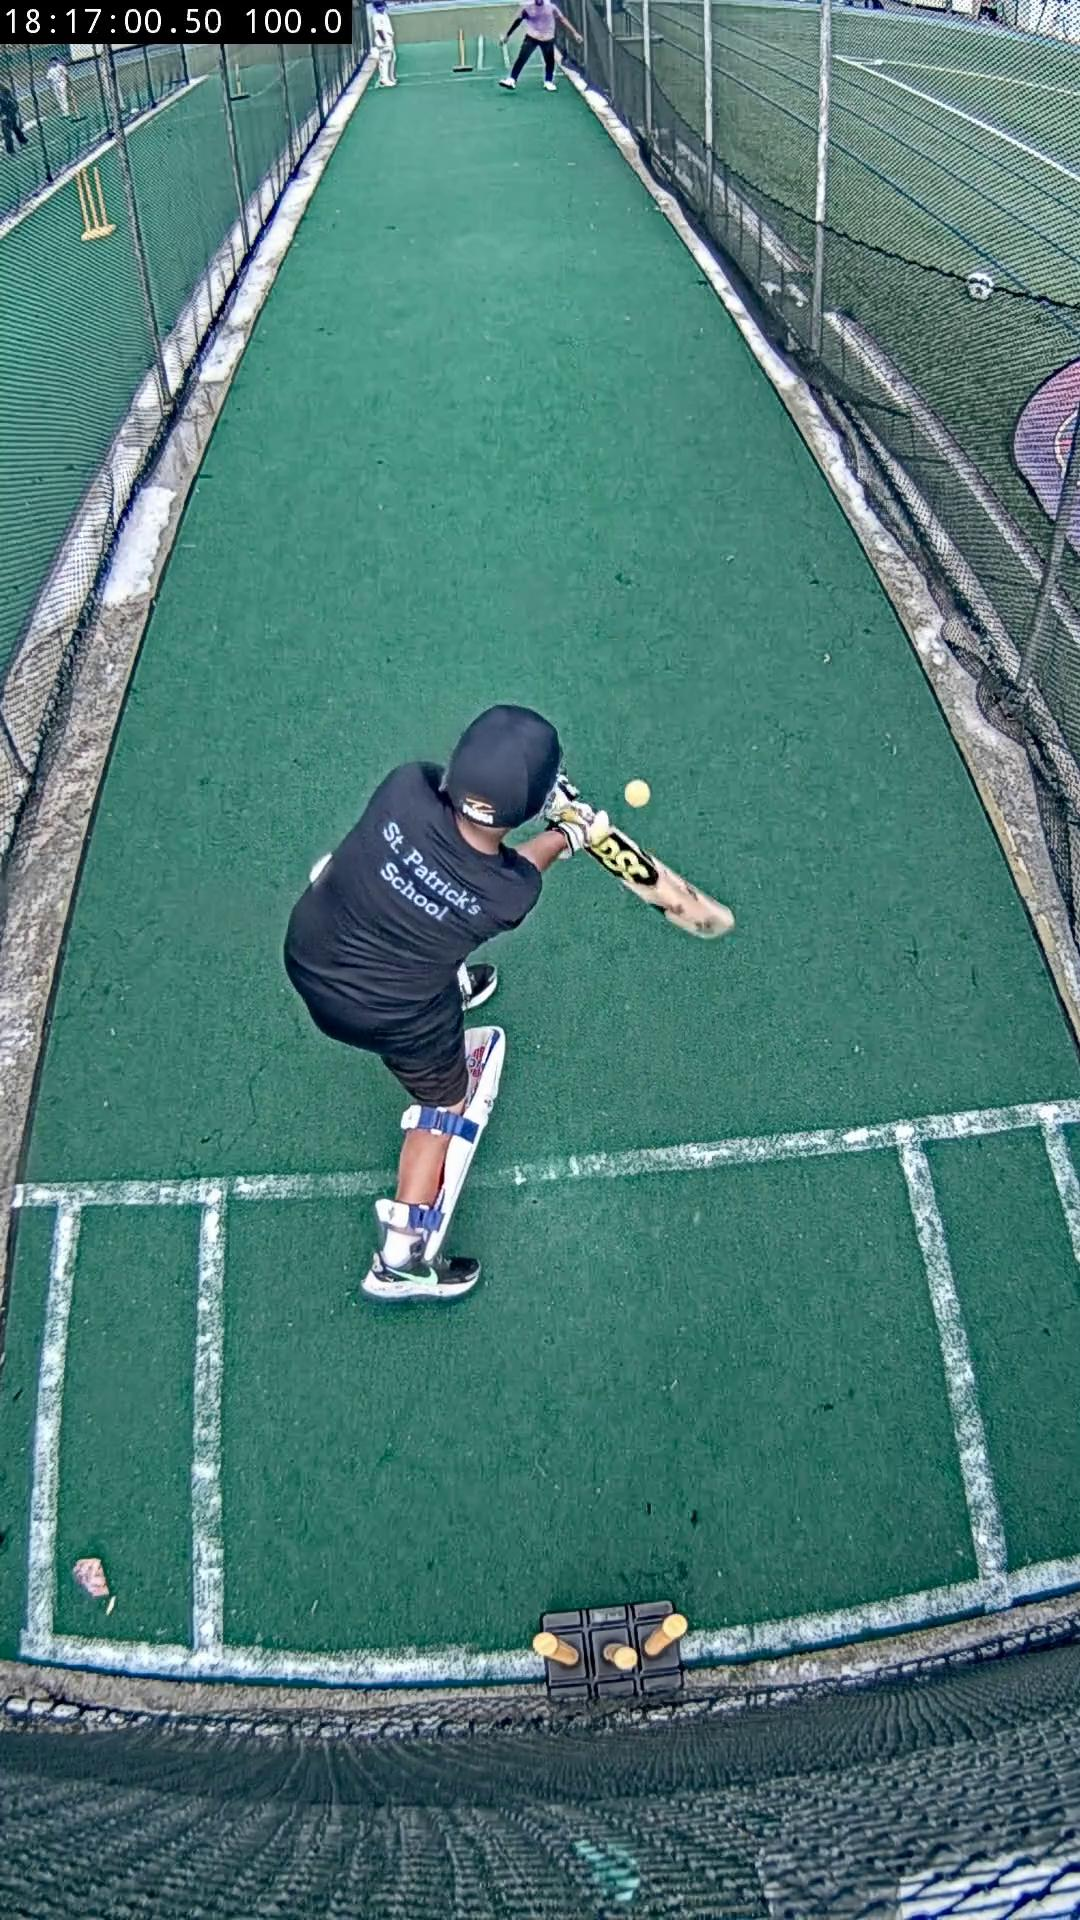ball: (622, 781, 649, 804)
bat: (585, 810, 735, 938)
gloves: (543, 773, 615, 853)
helmet: (443, 705, 563, 828)
pads: (419, 1027, 506, 1261)
stumps: (533, 1601, 686, 1702)
